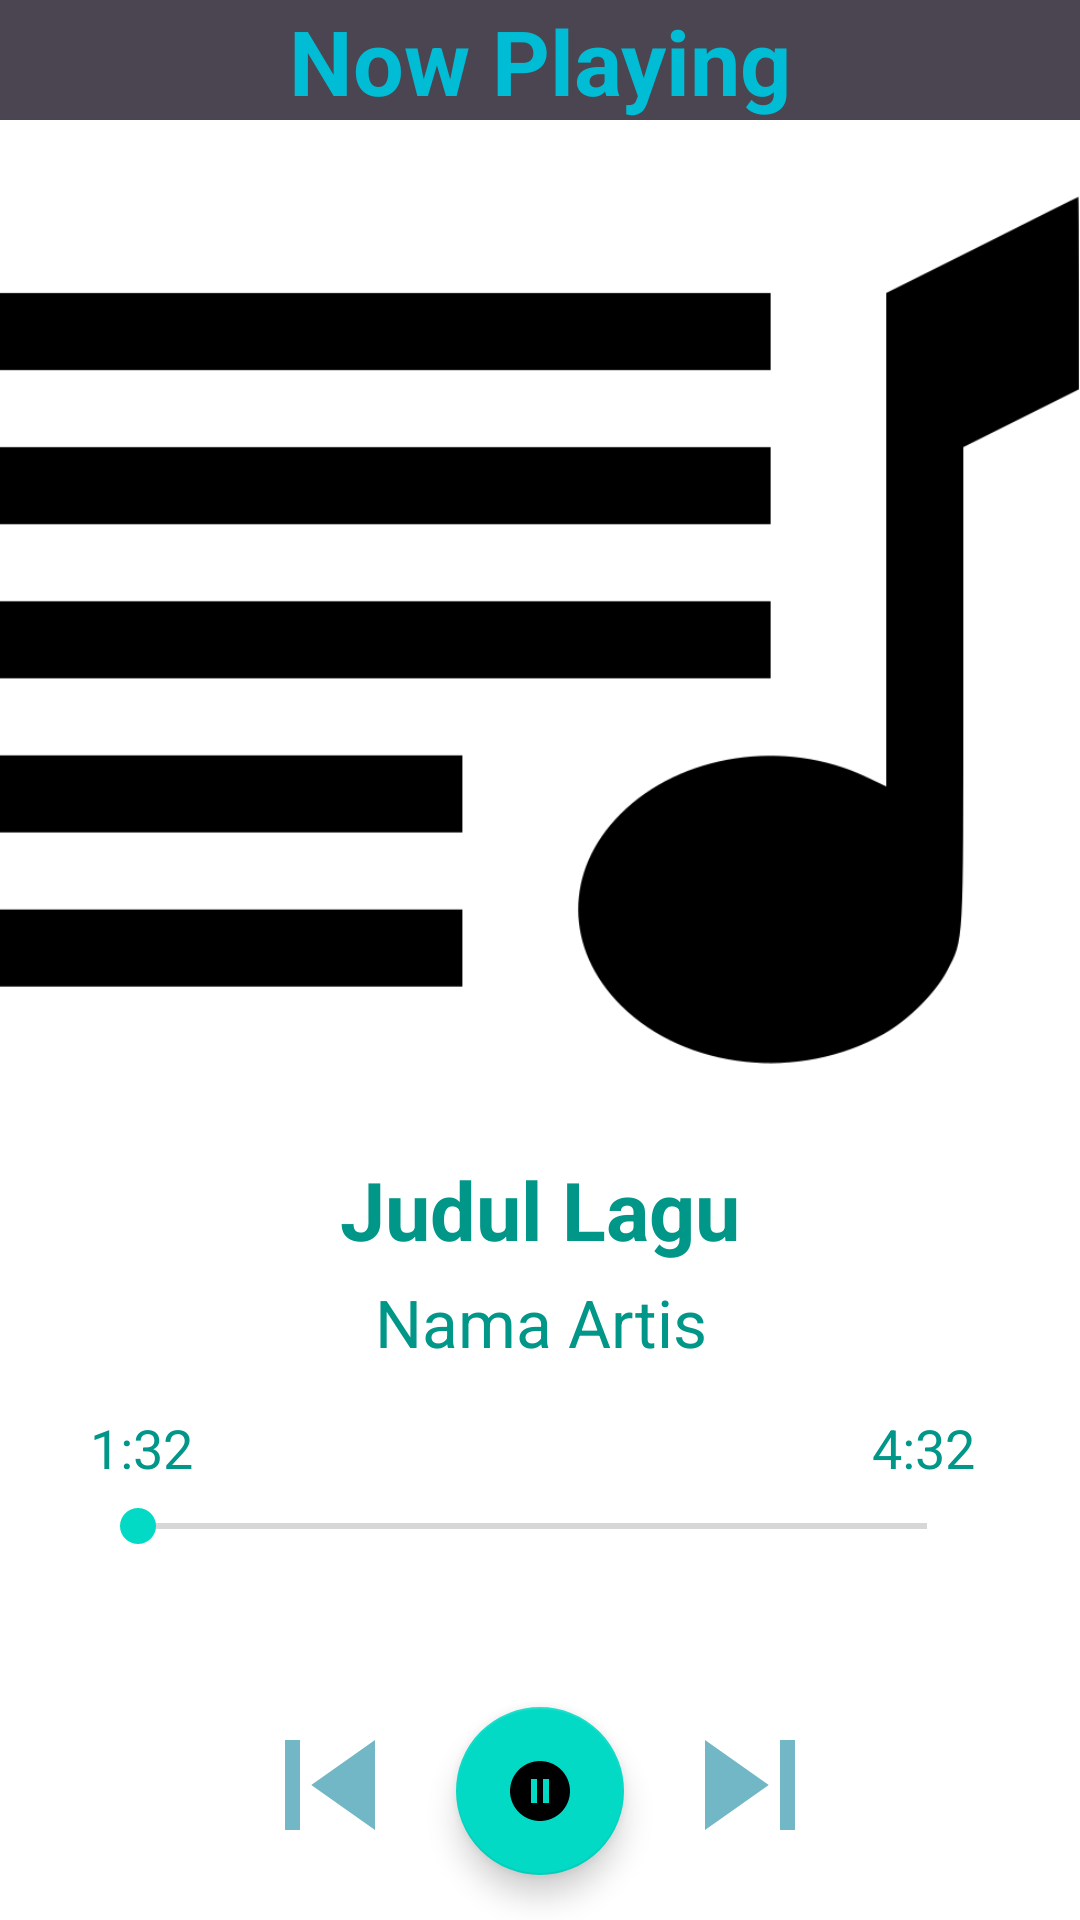

Point at icon controls on the screen. Image size 1080 × 1920, points as [x,y].
pause: [540,1791]
skip next: [750,1785]
skip prev: [330,1785]
